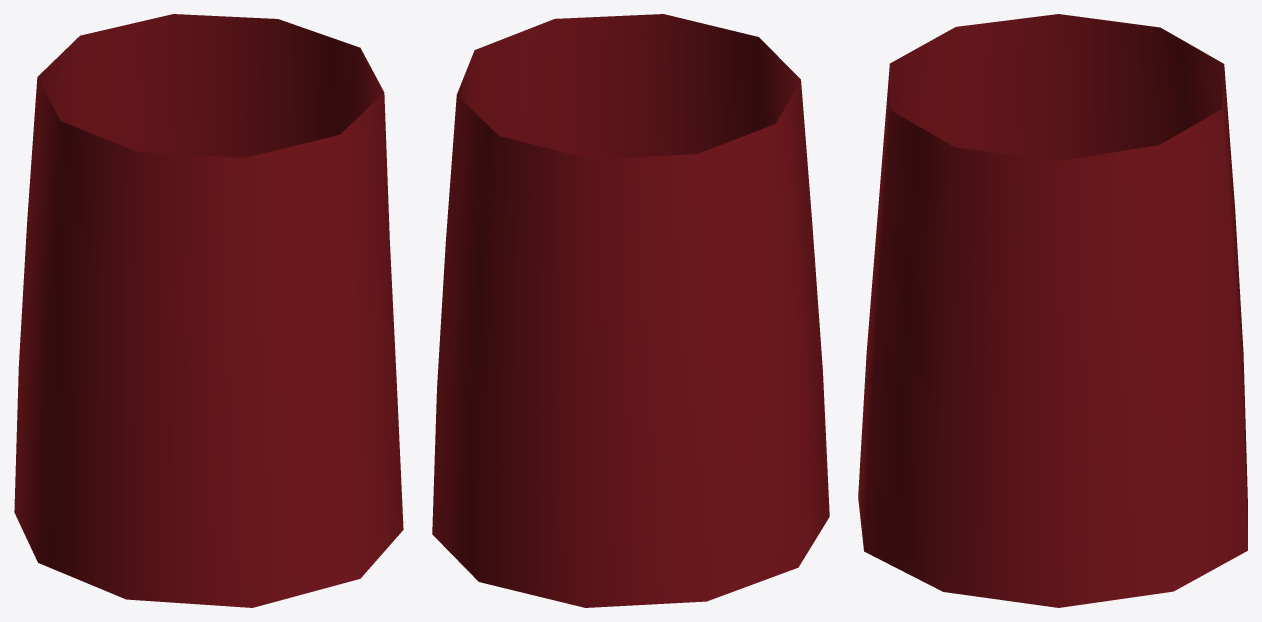
Rendered from santa_costume_bracer.L.glb.
3 views of the same model, side by side, from view 1: azimuth 30°, elevation 25°; view 2: azimuth 150°, elevation 25°; view 3: azimuth 270°, elevation 25° (orthographic).
Parts seen in each view (by area): view 1: santa_costume_bracer.L; view 2: santa_costume_bracer.L; view 3: santa_costume_bracer.L.
Boxes of the visible parts, <box> form: santa_costume_bracer.L: <box>14,14,403,607</box>; santa_costume_bracer.L: <box>432,14,829,607</box>; santa_costume_bracer.L: <box>858,14,1247,607</box>.
Size of the model in its own units: 0.1277 by 0.1562 by 0.126.
